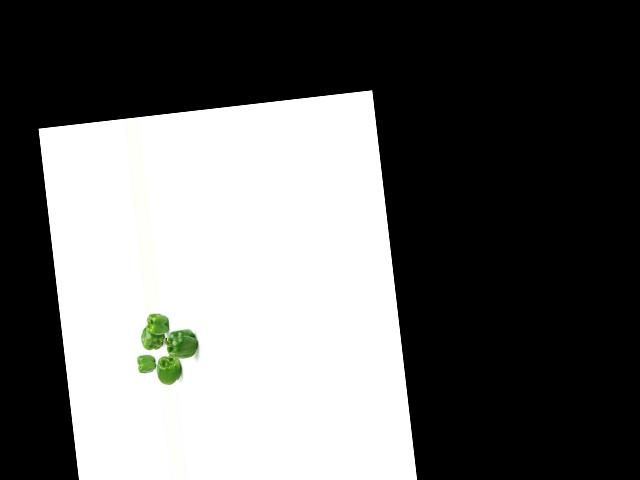bell_pepper: (146, 311, 172, 337)
